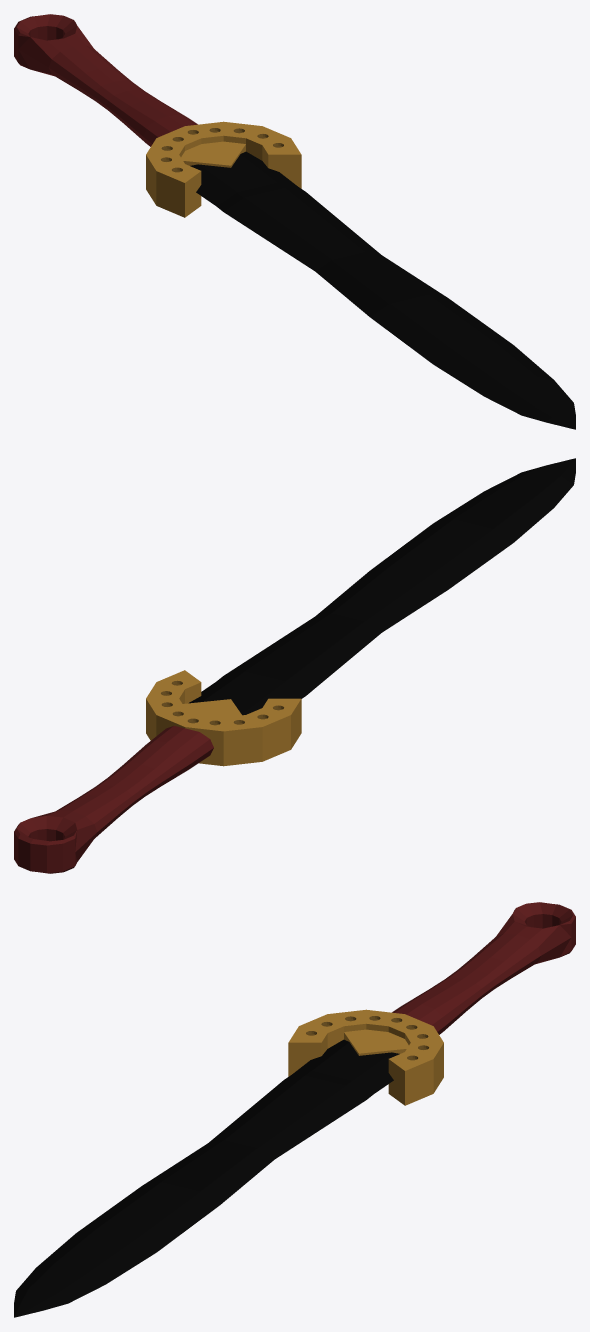
The model's file is PM-Sword.fbx.
The picture shows the model from 3 angles, top to bottom: view 1: azimuth 30°, elevation 25°; view 2: azimuth 150°, elevation 25°; view 3: azimuth 330°, elevation 25°; orthographic projection.
Visible parts, largest first — view 1: Cylinder; view 2: Cylinder; view 3: Cylinder.
Part boxes in pixels (x1,y1,x2,y2): Cylinder: (14,14,575,429); Cylinder: (14,458,575,873); Cylinder: (14,902,575,1317).
Bounding box in the file's own units: 52.66 × 13 × 369.
